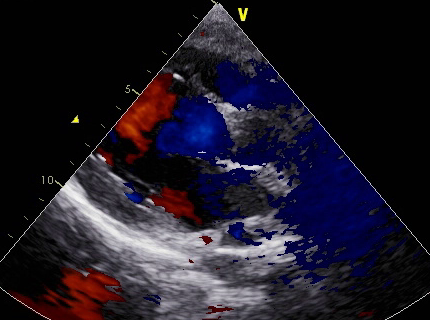MR: (181, 156, 268, 245)
